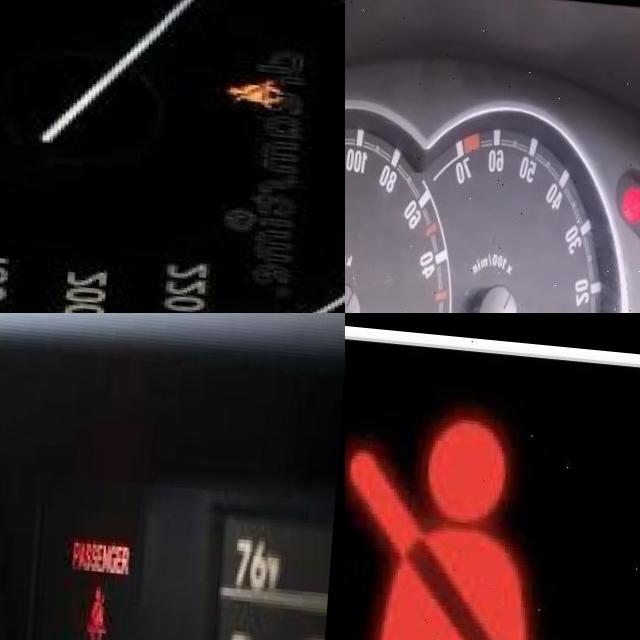Seat Belt: (345, 394, 640, 640), (231, 66, 286, 108), (90, 574, 117, 637)
